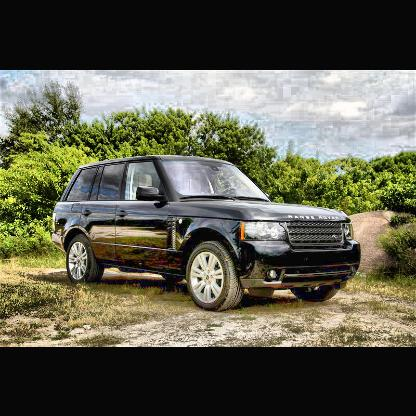Land Rover Range Rover SUV 2012: (55, 156, 362, 312)
